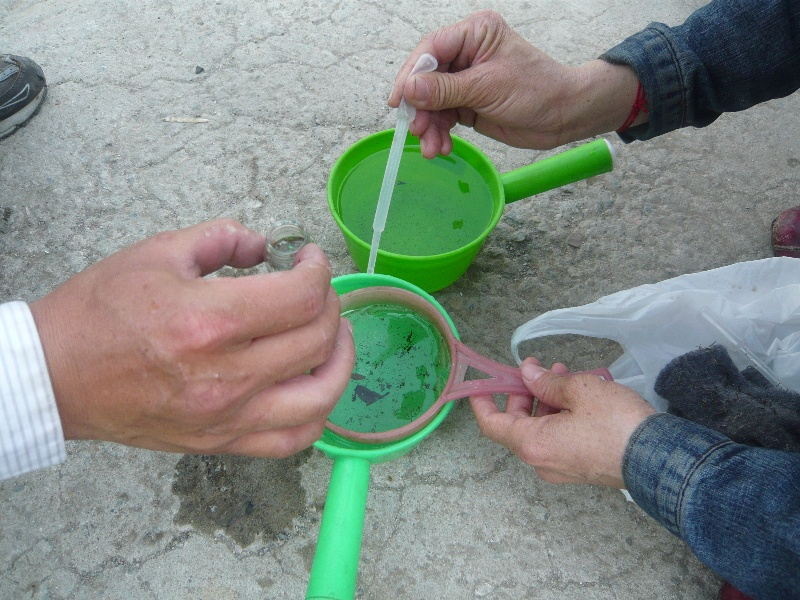bowl: (326, 125, 504, 293)
